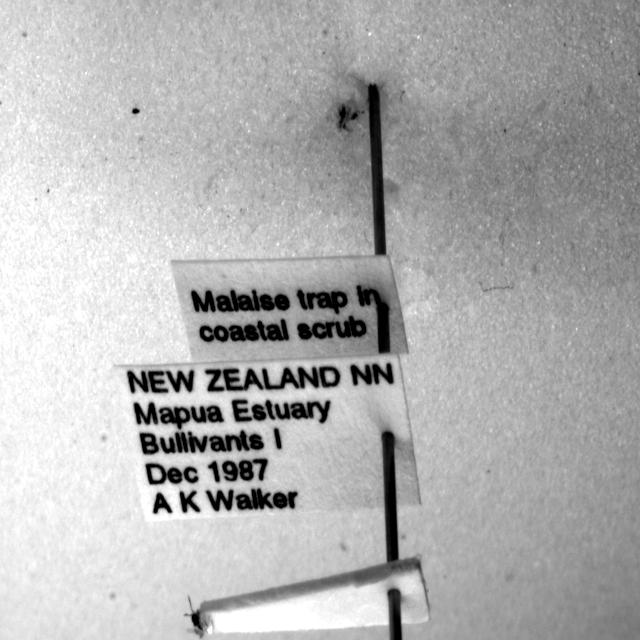typed_label: (115, 354, 420, 519), (172, 255, 408, 362)
